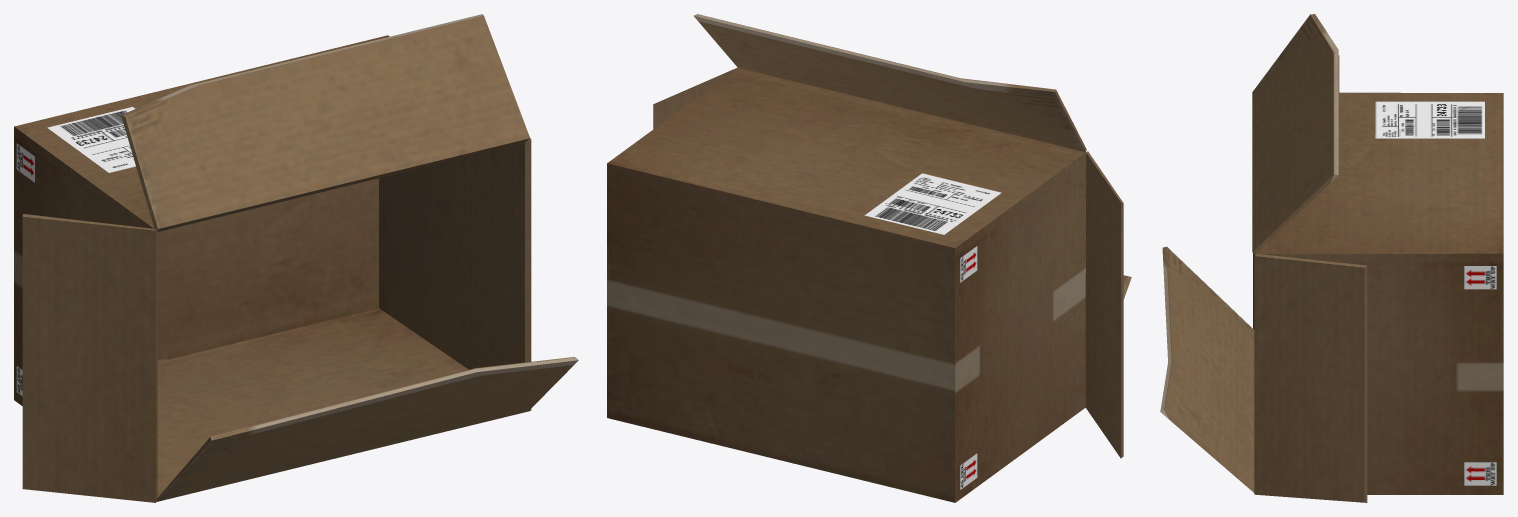
File: p_glo_cardboardbox_3_LOD0.obj
3 renders of one model, left to right at view 1: azimuth 30°, elevation 25°; view 2: azimuth 150°, elevation 25°; view 3: azimuth 270°, elevation 25°, orthographic. The views are drawn at different scales.
Visible parts, largest first — view 1: mtl_p_glo_cardboardbox, mtl_p_glo_cardboardbox_decal; view 2: mtl_p_glo_cardboardbox, mtl_p_glo_cardboardbox_decal; view 3: mtl_p_glo_cardboardbox, mtl_p_glo_cardboardbox_decal.
Part boxes in pixels (x1,y1,x2,y2): mtl_p_glo_cardboardbox: (14, 14, 578, 502); mtl_p_glo_cardboardbox_decal: (16, 107, 135, 396); mtl_p_glo_cardboardbox: (607, 14, 1131, 502); mtl_p_glo_cardboardbox_decal: (864, 173, 1001, 489); mtl_p_glo_cardboardbox: (1160, 14, 1503, 502); mtl_p_glo_cardboardbox_decal: (1375, 101, 1496, 485).
Bounding box in the file's own units: 96.77 × 68.73 × 66.75.
